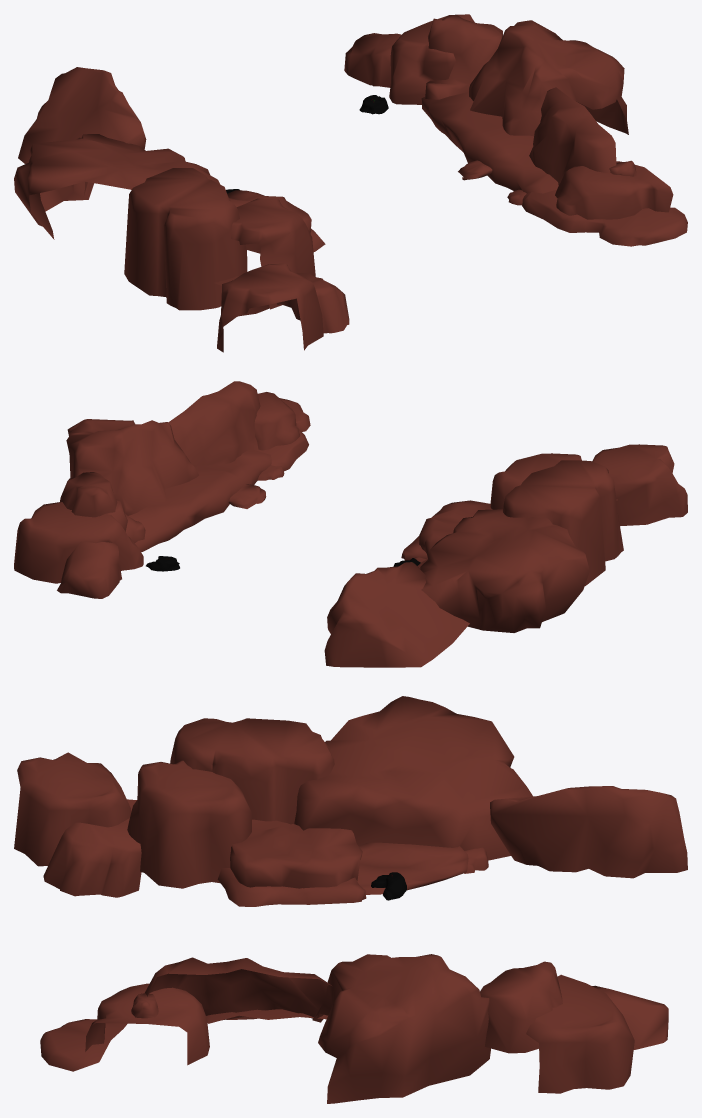
The model's file is Grassland01_MountainWall.fbx.
The picture shows the model from 3 angles, top to bottom: view 1: azimuth 30°, elevation 25°; view 2: azimuth 150°, elevation 25°; view 3: azimuth 270°, elevation 25°; orthographic projection. The views are drawn at different scales.
Visible parts, largest first — view 1: Grassland01_MountainWall; view 2: Grassland01_MountainWall; view 3: Grassland01_MountainWall.
Boxes of the visible parts, x1,y1,x2,y2 form: Grassland01_MountainWall: [14, 14, 687, 352]; Grassland01_MountainWall: [14, 381, 687, 667]; Grassland01_MountainWall: [14, 696, 687, 1103].
Bounding box in the file's own units: 2586 × 464 × 2225.
